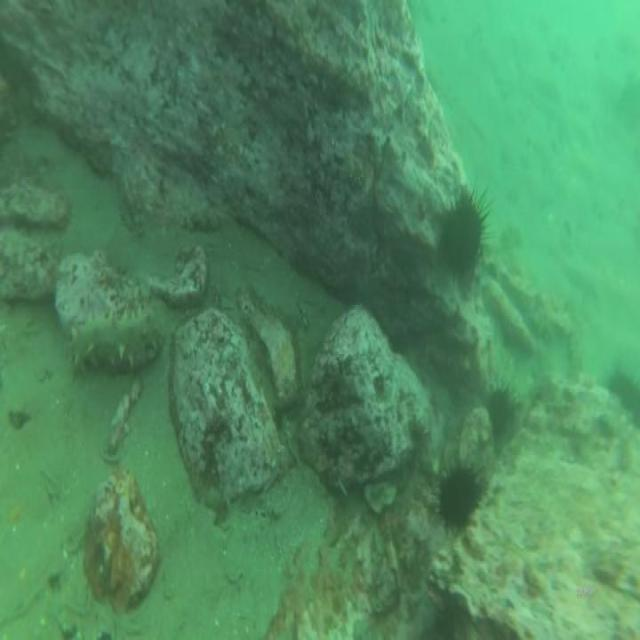echinus: (433, 178, 494, 290), (432, 450, 488, 532), (422, 584, 469, 640), (486, 378, 516, 438)
holothurian: (67, 302, 166, 379)
